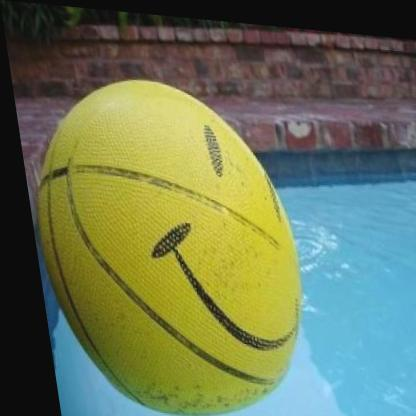basketball: (7, 62, 312, 416)
